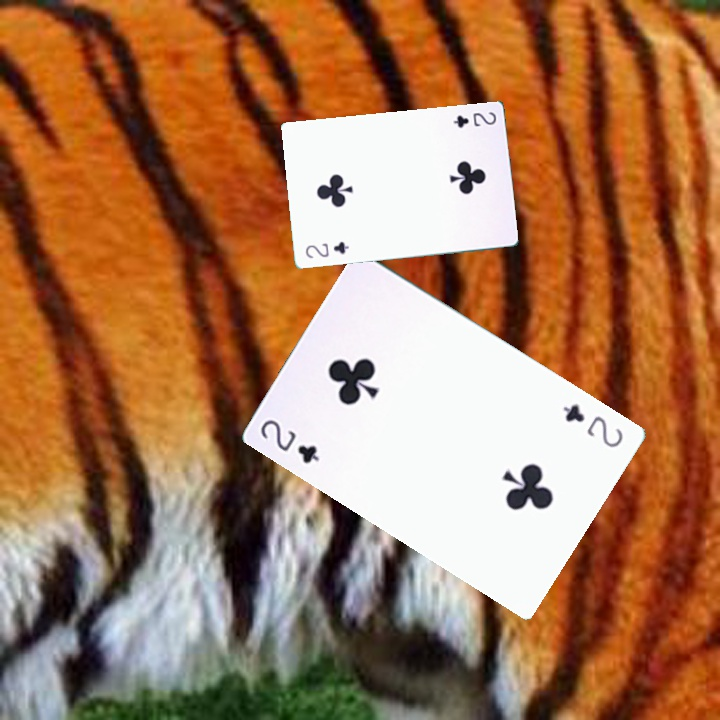2c: (559, 399, 626, 451), (256, 415, 323, 466), (301, 237, 351, 261), (449, 108, 499, 130)
